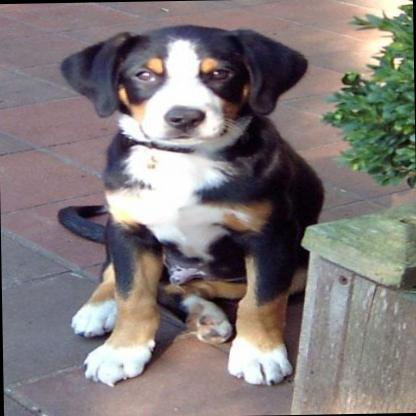EntleBucher: (52, 22, 328, 389)
